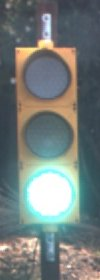Green: (9, 34, 85, 231)
